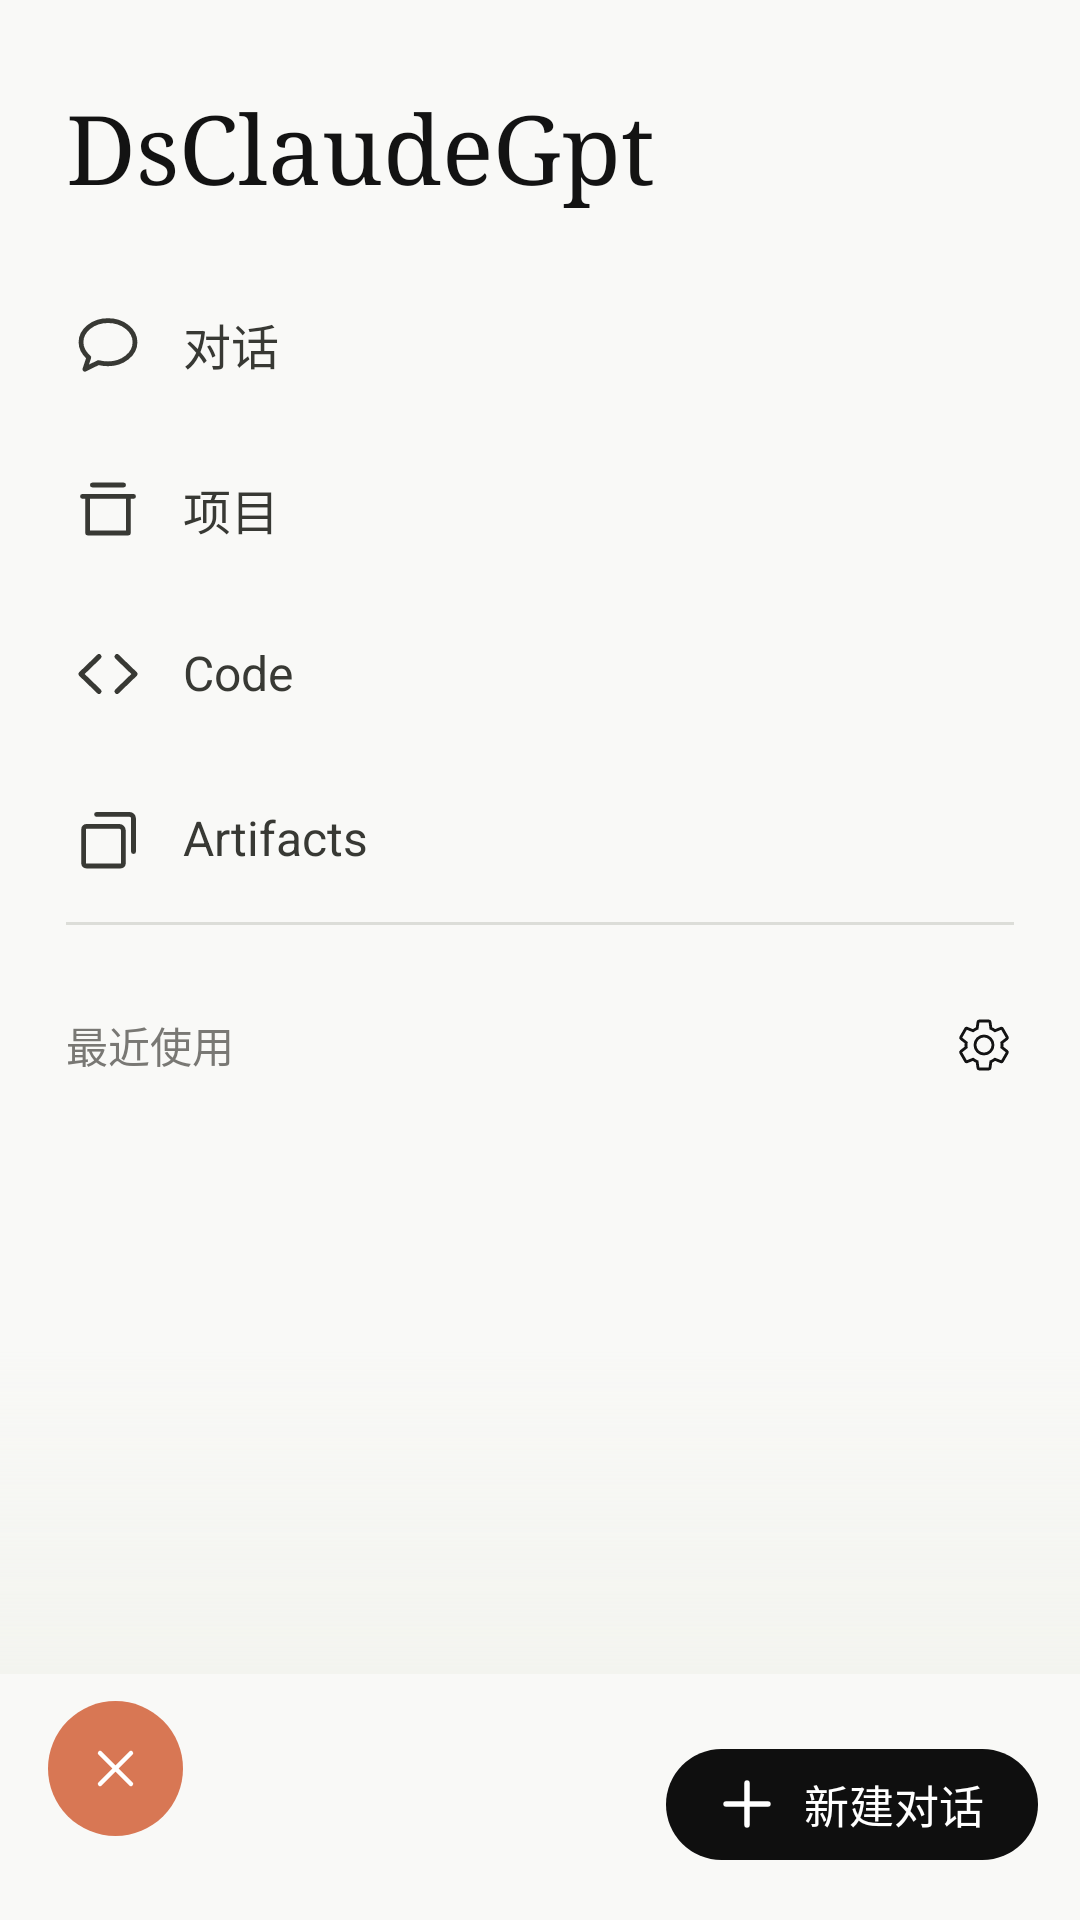

Named icons in this screenshot (1080 x 1920) and their centers, (x,y):
chat: (108,345)
projects: (108,509)
关闭: (115,1768)
设置: (984,1045)
